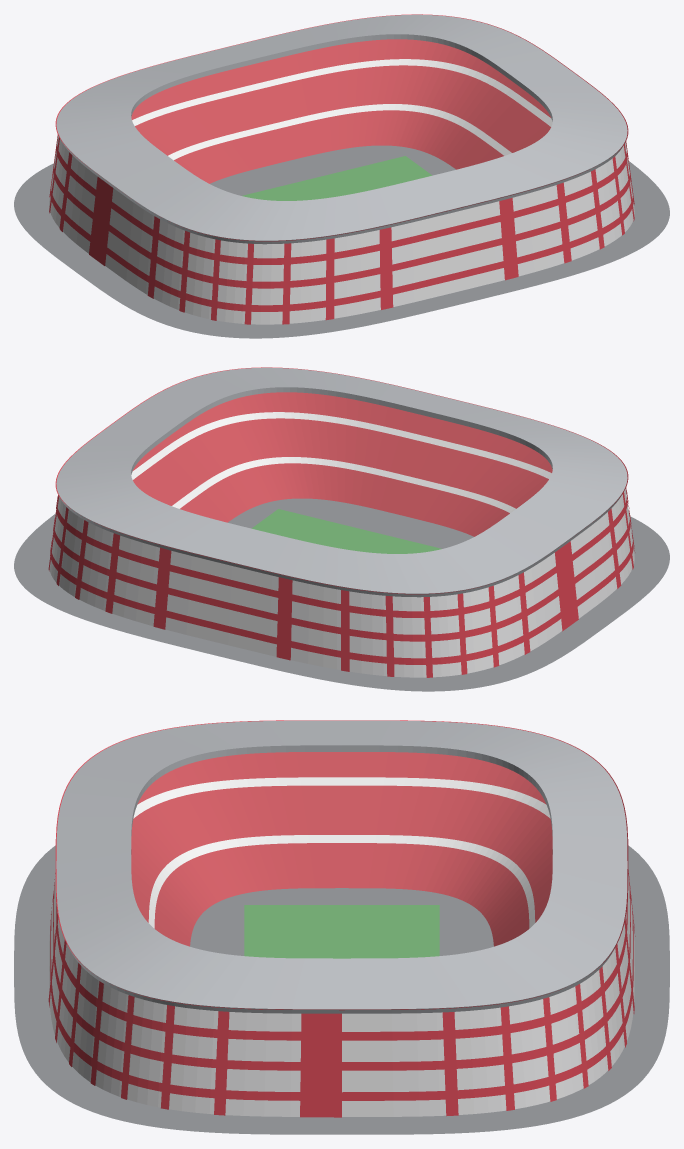
File: sanmames.glb
3 views of the same model, one above another, from view 1: azimuth 30°, elevation 25°; view 2: azimuth 150°, elevation 25°; view 3: azimuth 270°, elevation 25° (orthographic). The views are drawn at different scales.
Visible parts, largest first — view 1: SanMames; view 2: SanMames; view 3: SanMames.
Boxes of the visible parts, x1,y1,x2,y2 form: SanMames: [14, 14, 669, 338]; SanMames: [14, 367, 669, 691]; SanMames: [14, 720, 669, 1134].
Bounding box in the file's own units: 273 × 45 × 228.
